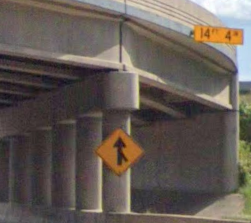1: (197, 26, 203, 41)
4: (221, 28, 232, 43), (203, 26, 211, 42)
overheadsign: (193, 25, 242, 47)
